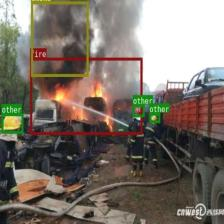fire: (30, 57, 142, 134)
smoke: (31, 1, 88, 76)
